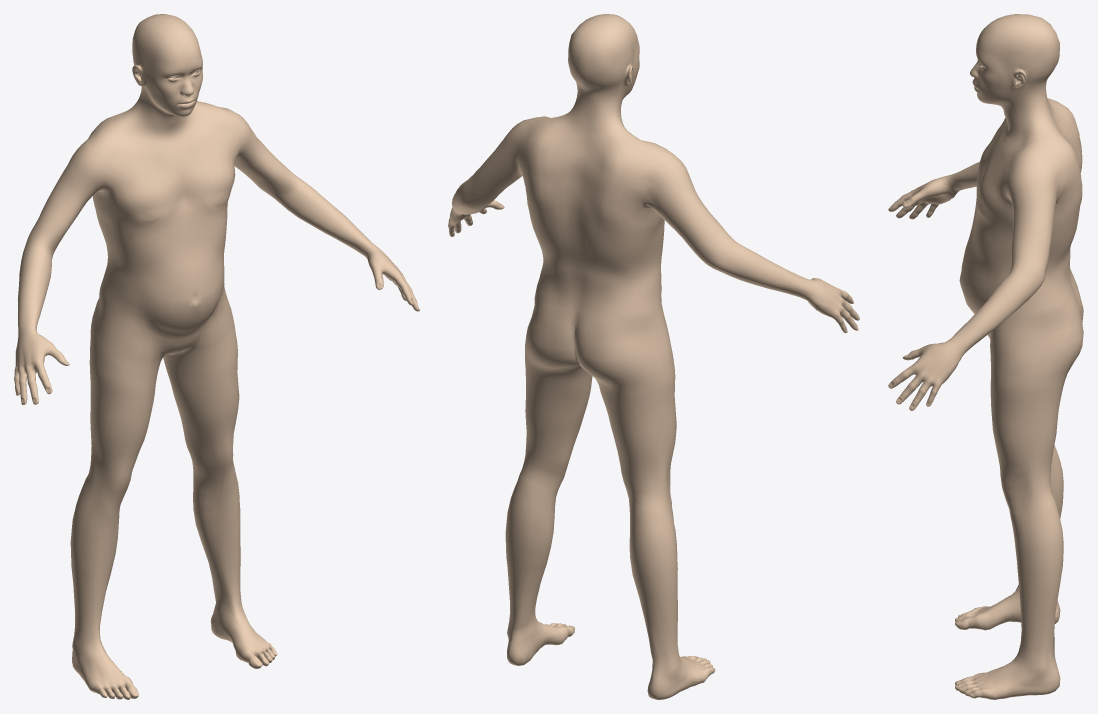
File: male_Apple.glb
3 views of the same model, side by side, from view 1: azimuth 30°, elevation 25°; view 2: azimuth 150°, elevation 25°; view 3: azimuth 270°, elevation 25° (orthographic).
Parts seen in each view (by area): view 1: male_Apple; view 2: male_Apple; view 3: male_Apple.
Part boxes in pixels (x1=…): male_Apple: x1=14, y1=14, x2=419, y2=699; male_Apple: x1=448, y1=14, x2=859, y2=699; male_Apple: x1=888, y1=14, x2=1083, y2=699.
Bounding box in the file's own units: 1.11 × 1.73 × 0.4768.
